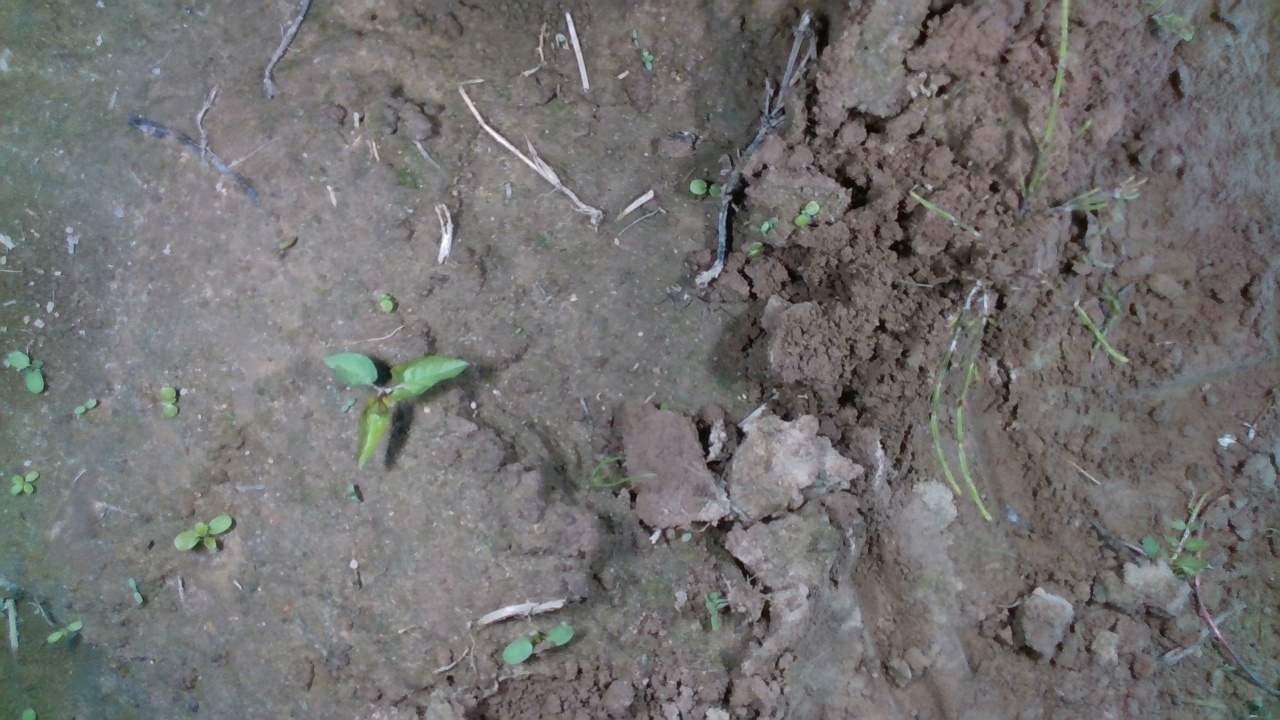weed: (501, 622, 575, 666), (170, 512, 232, 554), (6, 350, 45, 396), (44, 618, 84, 644), (8, 468, 40, 497), (157, 386, 180, 422), (793, 198, 821, 227), (689, 177, 725, 197), (126, 576, 144, 607), (72, 396, 99, 416)
